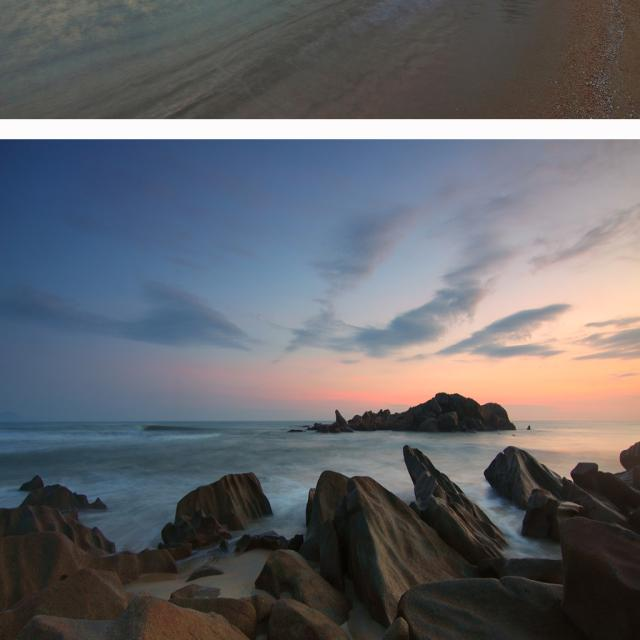island: (296, 382, 516, 436)
